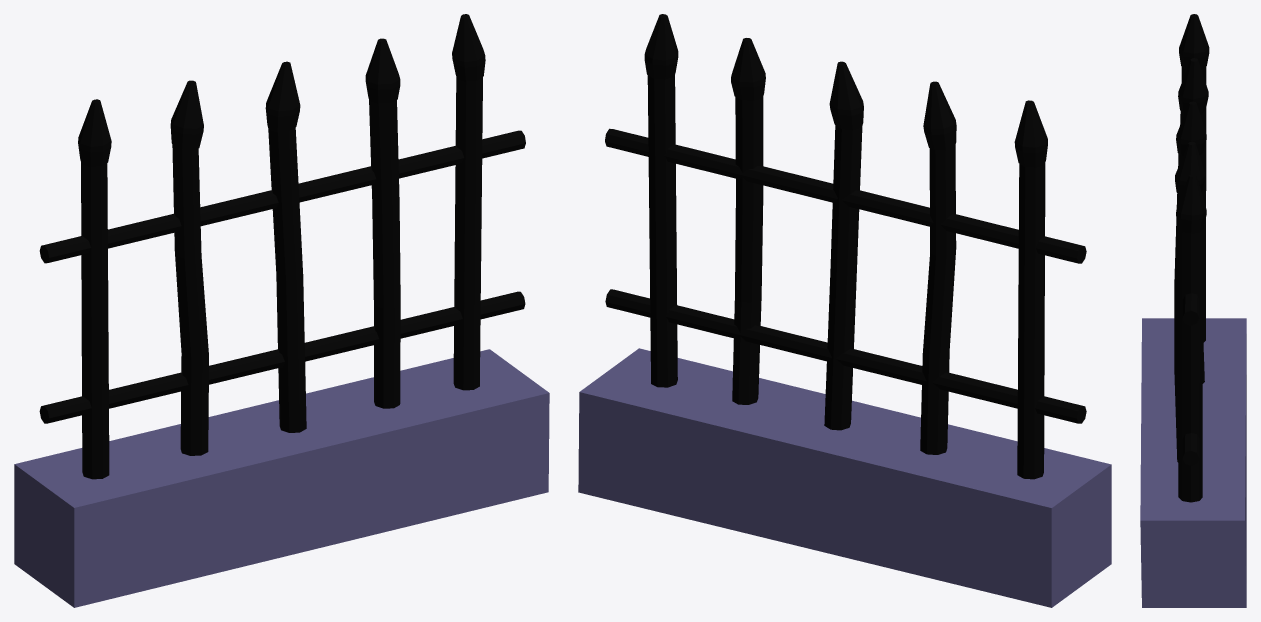
The model's file is Fence_Metal_06.fbx.
3 renders of one model, left to right at view 1: azimuth 30°, elevation 25°; view 2: azimuth 150°, elevation 25°; view 3: azimuth 270°, elevation 25°, orthographic. The views are drawn at different scales.
Parts seen in each view (by area): view 1: Fence_06; view 2: Fence_06; view 3: Fence_06.
Boxes of the visible parts, bbox=[...] form: Fence_06: bbox=[14, 14, 549, 607]; Fence_06: bbox=[578, 14, 1111, 607]; Fence_06: bbox=[1140, 14, 1246, 607].
Bounding box in the file's own units: 199 × 189 × 44.1.
